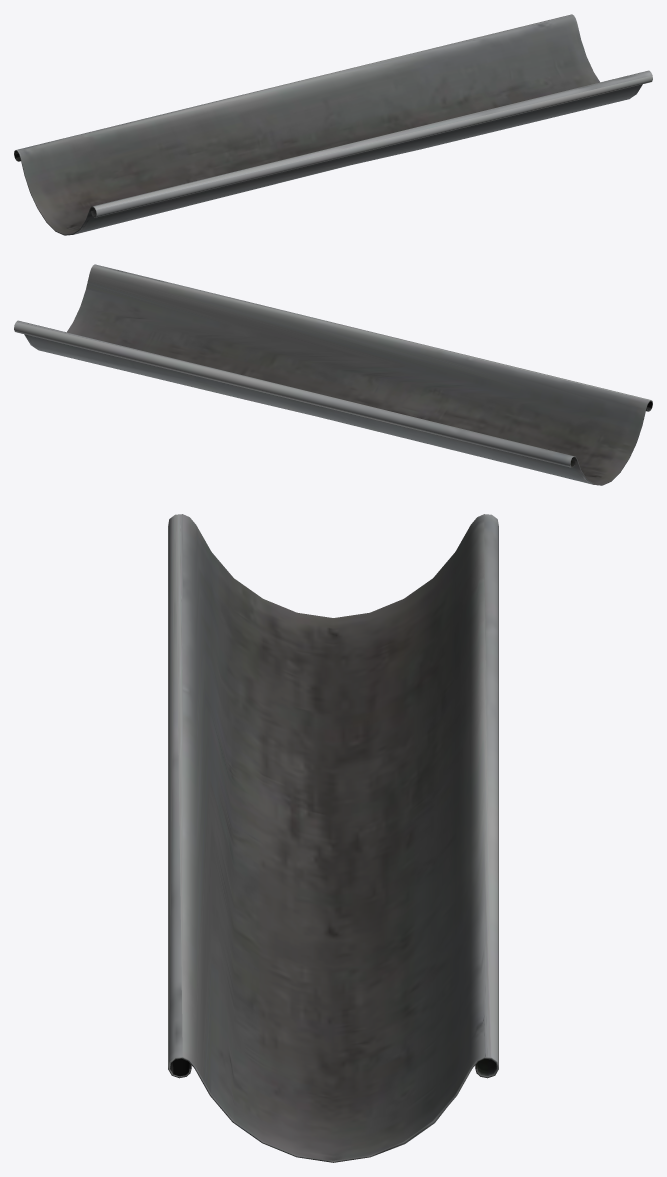
File: modular-metal-gutter-section.glb
The picture shows the model from 3 angles, top to bottom: view 1: azimuth 30°, elevation 25°; view 2: azimuth 150°, elevation 25°; view 3: azimuth 270°, elevation 25°; orthographic projection. The views are drawn at different scales.
Visible parts, largest first — view 1: modular_metal_gutter_section; view 2: modular_metal_gutter_section; view 3: modular_metal_gutter_section.
Part boxes in pixels (left/top/right/bottom): modular_metal_gutter_section: left=14, top=14, right=652, bottom=235; modular_metal_gutter_section: left=14, top=264, right=652, bottom=485; modular_metal_gutter_section: left=168, top=514, right=498, bottom=1162.
Size of the model in its own units: 1.51 by 0.1374 by 0.3892.
1 material, 1 textured.
